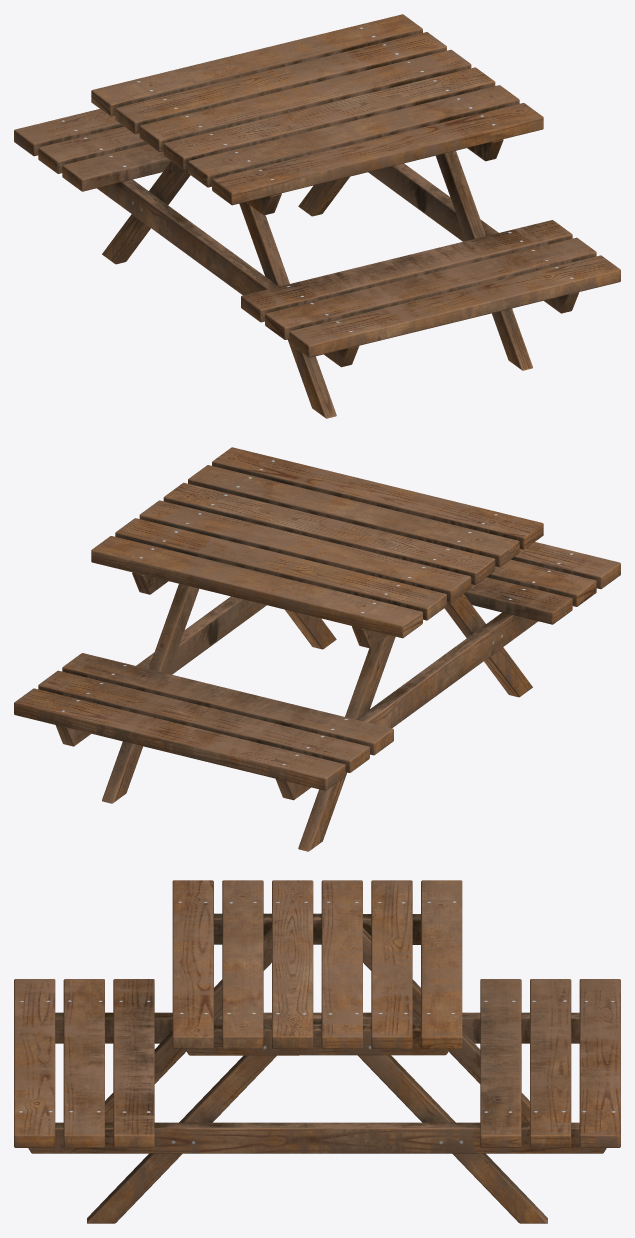
The model's file is Picnic_Table_.fbx.
3 views of the same model, one above another, from view 1: azimuth 30°, elevation 25°; view 2: azimuth 150°, elevation 25°; view 3: azimuth 270°, elevation 25° (orthographic). The views are drawn at different scales.
Parts seen in each view (by area): view 1: picnic_table; view 2: picnic_table; view 3: picnic_table.
Part boxes in pixels (x1,y1,x2,y2): picnic_table: (14, 14, 620, 418); picnic_table: (14, 447, 620, 851); picnic_table: (14, 880, 620, 1223).
Bounding box in the file's own units: 179 × 114 × 293.
Materials: 1 (1 with a texture image).
